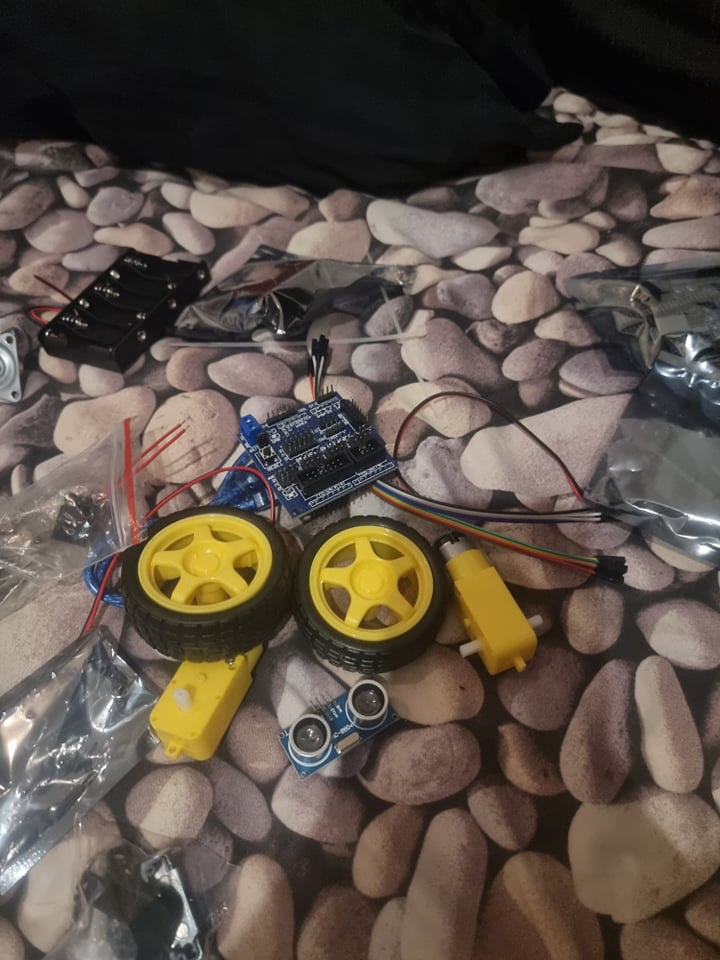5V EXPANSION: (241, 392, 395, 520)
BATTERY BOX: (38, 246, 212, 376)
SENSOR: (281, 676, 402, 775)
